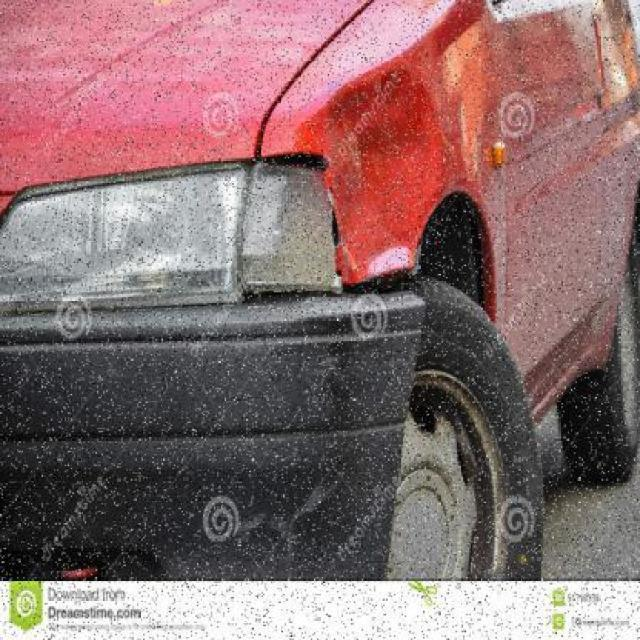fender-dent: (254, 15, 506, 333)
